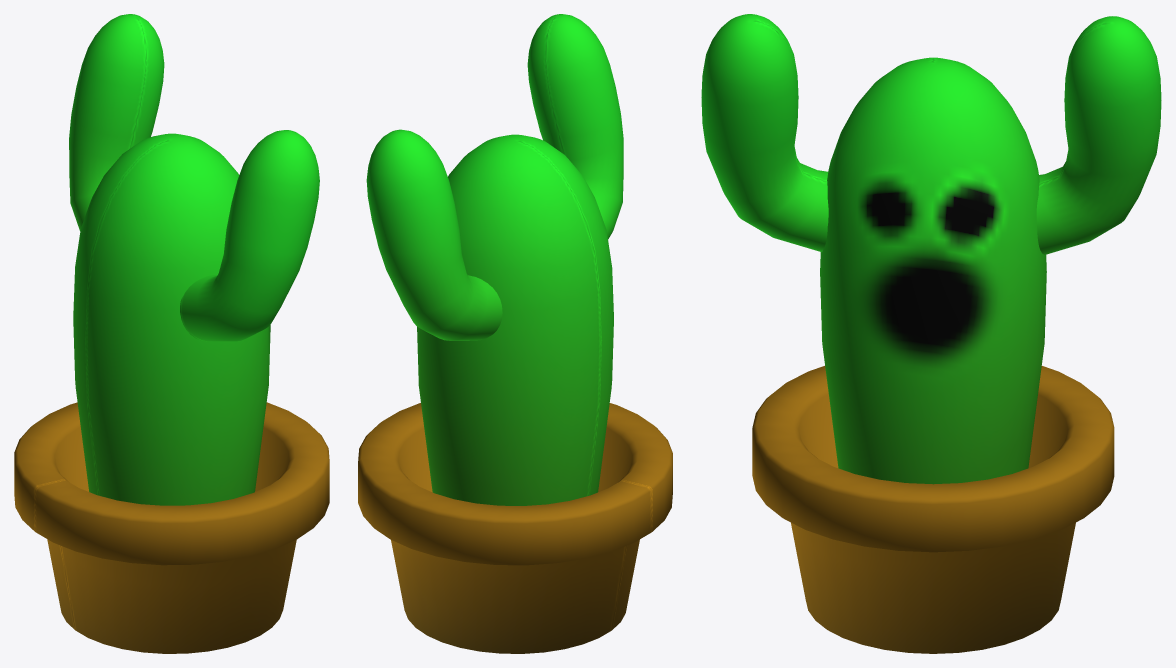
Rendered from cactus_moises.fbx.
The picture shows the model from 3 angles, left to right: view 1: azimuth 30°, elevation 25°; view 2: azimuth 150°, elevation 25°; view 3: azimuth 270°, elevation 25°; orthographic projection. The views are drawn at different scales.
Visible parts, largest first — view 1: Sphere; view 2: Sphere; view 3: Sphere.
Part boxes in pixels (x1,y1,x2,y2): Sphere: [14, 14, 329, 653]; Sphere: [358, 14, 672, 653]; Sphere: [701, 14, 1161, 653].
Bounding box in the file's own units: 319 × 585 × 406.
1 material, 1 textured.
